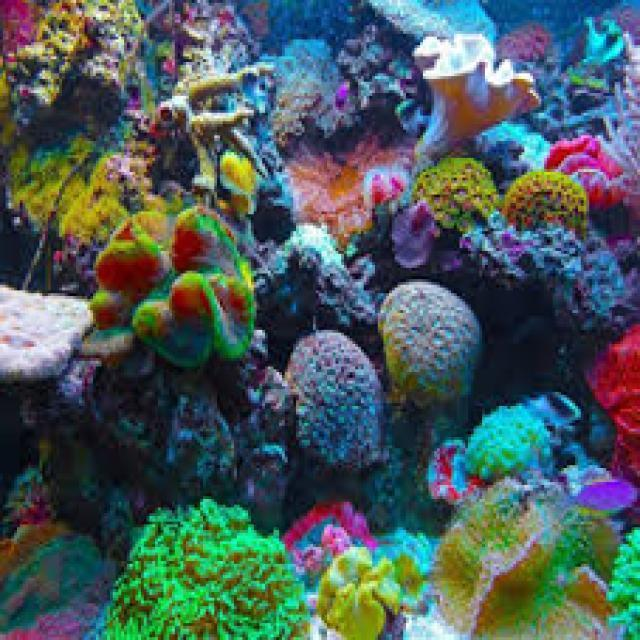Healthy: (108, 497, 306, 640), (94, 208, 259, 369), (437, 492, 611, 640), (287, 332, 385, 472), (420, 36, 537, 151), (381, 286, 482, 403), (13, 145, 124, 234), (3, 282, 93, 381), (318, 545, 406, 635), (468, 406, 552, 482), (596, 325, 640, 469), (418, 160, 501, 234), (550, 139, 626, 200), (506, 172, 589, 227), (286, 503, 374, 544), (610, 529, 640, 640), (7, 503, 63, 560), (367, 168, 410, 215), (578, 88, 582, 90)
